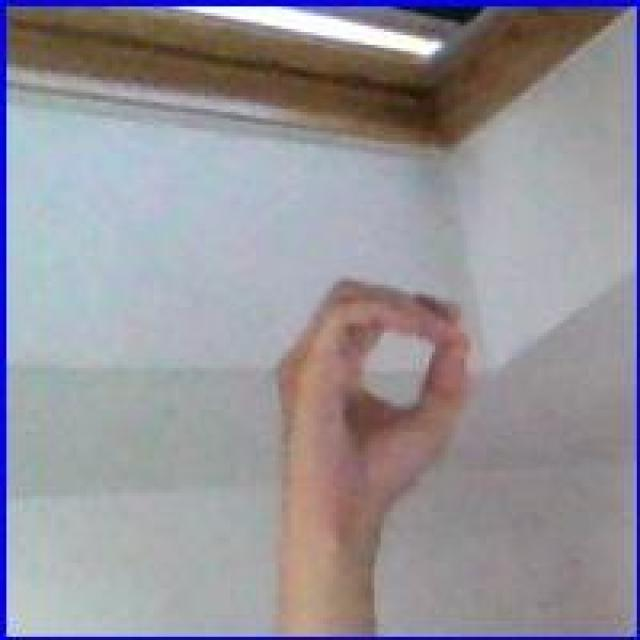O: (274, 274, 472, 498)
